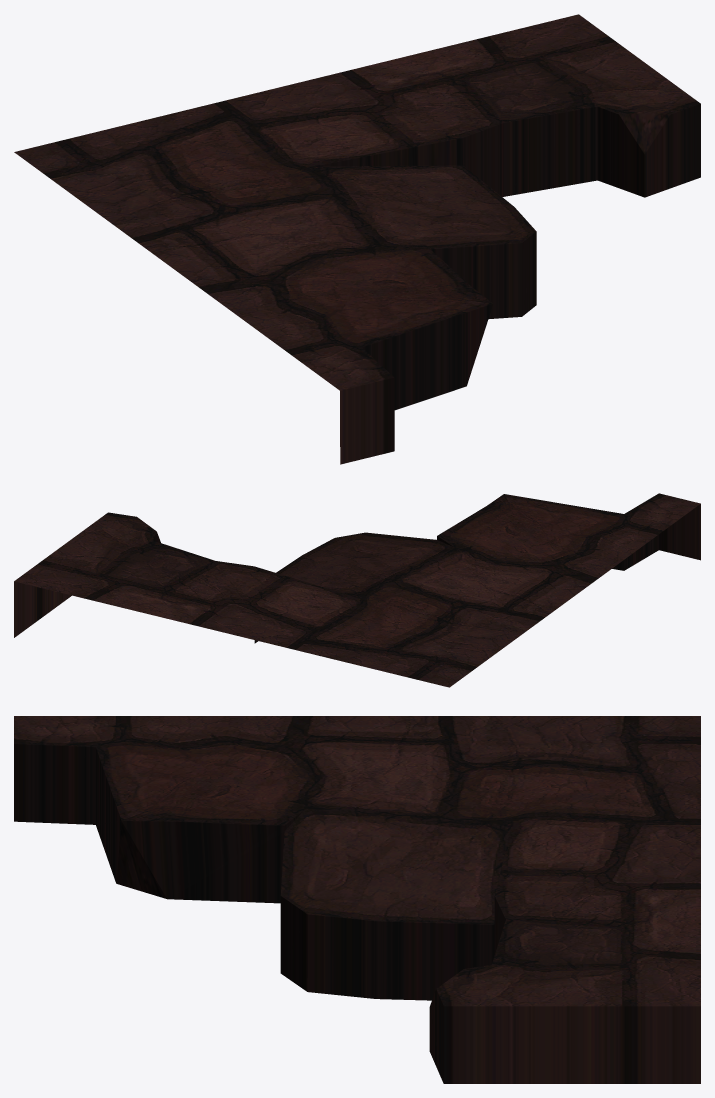
The model's file is lava_floor_brokendiagonal_01.fbx.
3 views of the same model, one above another, from view 1: azimuth 30°, elevation 25°; view 2: azimuth 150°, elevation 25°; view 3: azimuth 270°, elevation 25° (orthographic). The views are drawn at different scales.
Visible parts, largest first — view 1: obj0.157; view 2: obj0.157; view 3: obj0.157.
Part boxes in pixels (<box>): obj0.157: <box>14,14,700,464</box>; obj0.157: <box>14,493,700,687</box>; obj0.157: <box>14,716,700,1083</box>.
Bounding box in the file's own units: 4 × 0.6812 × 4.
